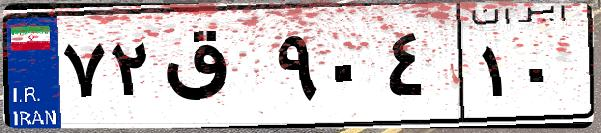0: (330, 28, 385, 110), (525, 38, 570, 115)
1: (475, 38, 525, 113)
2: (110, 28, 158, 98)
4: (385, 28, 445, 110)
7: (57, 26, 110, 100)
9: (270, 28, 330, 110)
ق: (158, 20, 270, 120)
